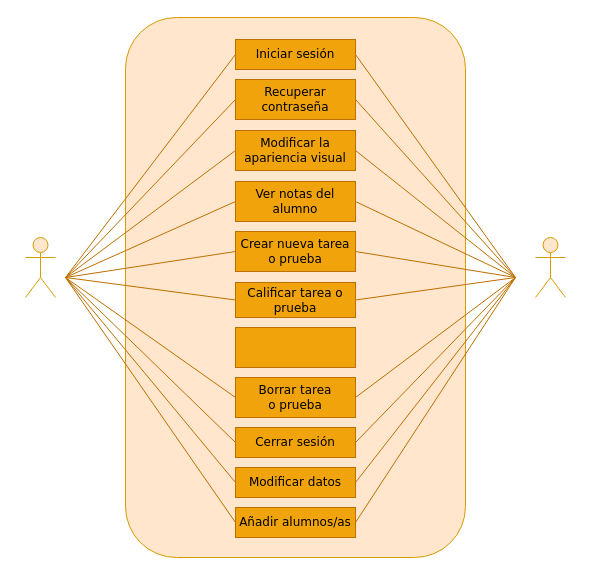
The diagram is 591 pixels wide and 575 high, and some of its shapes have lost their labels. Each missing label, with the box of its shape:
Modificar tarea o prueba: (234, 326, 356, 368)
Sistema: (534, 236, 566, 298)
Usuario: (24, 236, 56, 298)
